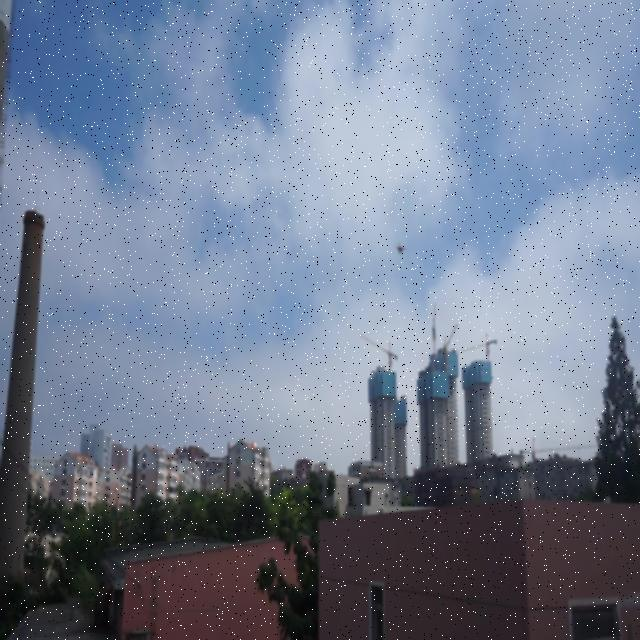UAV: (394, 241, 408, 256)
